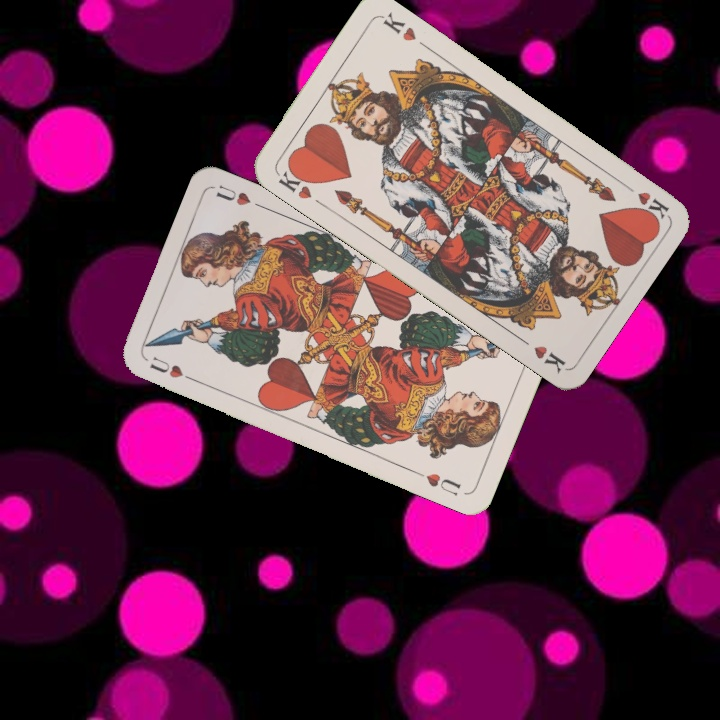HK: (617, 178, 672, 222), (272, 162, 317, 202)
HU: (145, 352, 200, 385)
